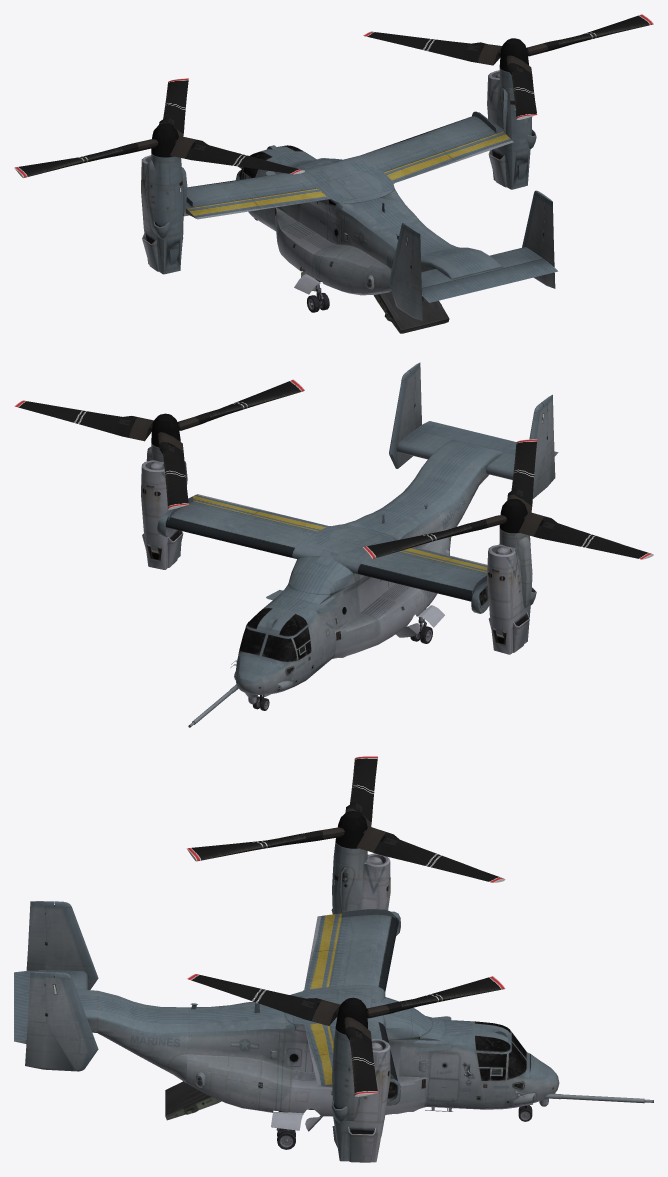
The model's file is bell_boeing_v-22_osprey_military_helicopter.glb.
The picture shows the model from 3 angles, top to bottom: view 1: azimuth 30°, elevation 25°; view 2: azimuth 150°, elevation 25°; view 3: azimuth 270°, elevation 25°; orthographic projection. The views are drawn at different scales.
Visible parts, largest first — view 1: Object_4, Object_3; view 2: Object_4, Object_3, Object_2; view 3: Object_4, Object_3, Object_2.
Boxes of the visible parts, x1=… form: Object_4: x1=183, y1=111, x2=558, y2=333; Object_3: x1=14, y1=14, x2=653, y2=294; Object_4: x1=157, y1=362, x2=558, y2=727; Object_3: x1=14, y1=379, x2=653, y2=694; Object_2: x1=239, y1=607, x2=346, y2=674; Object_4: x1=14, y1=901, x2=653, y2=1149; Object_3: x1=107, y1=756, x2=559, y2=1162; Object_2: x1=289, y1=1021, x2=526, y2=1089.
Bounding box in the file's own units: 964 × 284 × 772.
Materials: 3 (3 with a texture image).
